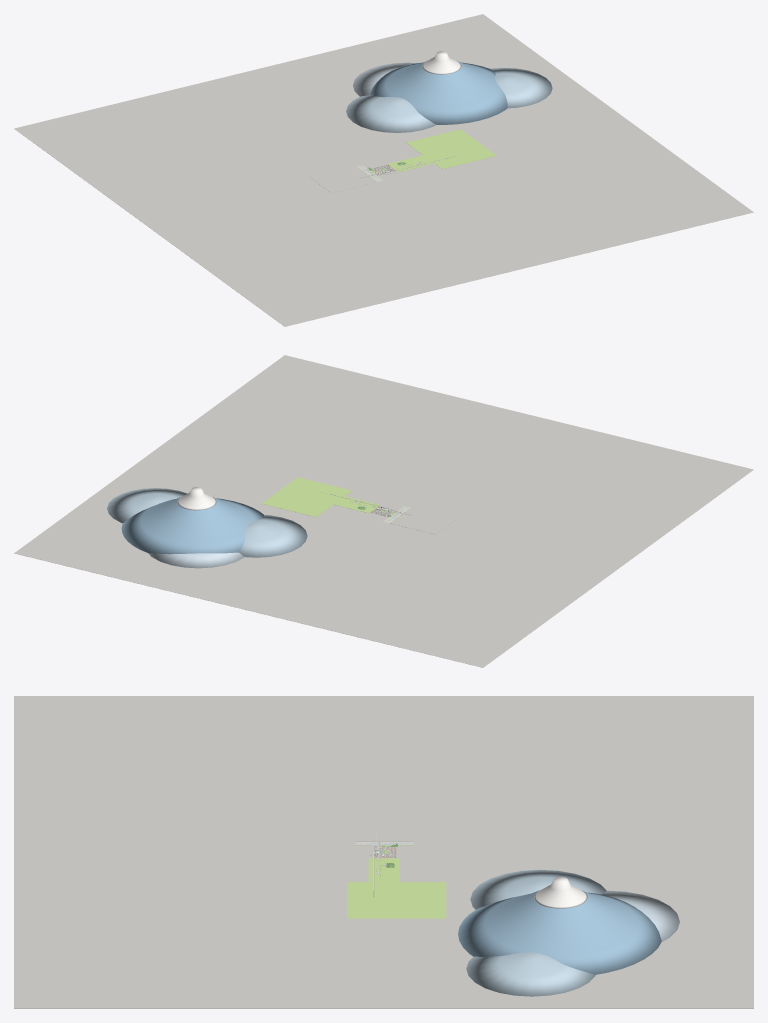
The model's file is shizuoka_hakoniwa.glb.
3 views of the same model, one above another, from view 1: azimuth 30°, elevation 25°; view 2: azimuth 150°, elevation 25°; view 3: azimuth 270°, elevation 25° (orthographic). The views are drawn at different scales.
Visible parts, largest first — view 1: 遠景の地面, 富士山, 富士の前の山-2000, 東の野の奥, 富士の前の山2000, 対岸, 富士の前の山-700, 富士山の雪; view 2: 遠景の地面, 富士山, 富士の前の山-2000, 東の野の奥, 富士の前の山2000, 富士の前の山-700, 対岸, 富士山の雪; view 3: 遠景の地面, 富士山, 富士の前の山2000, 東の野の奥, 富士の前の山-2000, 対岸, 富士の前の山-700, 富士山の雪, 東の野.
Boxes of the visible parts, x1,y1,x2,y2 form: 遠景の地面: (14, 14, 753, 326); 富士山: (370, 61, 507, 124); 富士の前の山-2000: (346, 95, 436, 132); 東の野の奥: (406, 129, 496, 169); 富士の前の山2000: (490, 68, 552, 108); 対岸: (311, 166, 376, 192); 富士の前の山-700: (353, 62, 416, 96); 富士山の雪: (422, 51, 461, 74); 遠景の地面: (14, 355, 753, 667); 富士山: (121, 497, 263, 554); 富士の前の山-2000: (239, 515, 307, 557); 東の野の奥: (262, 477, 352, 516); 富士の前の山2000: (107, 488, 187, 523); 富士の前の山-700: (148, 552, 244, 568); 対岸: (390, 508, 456, 534); 富士山の雪: (177, 487, 216, 510); 遠景の地面: (14, 696, 753, 1008); 富士山: (458, 890, 661, 974); 富士の前の山2000: (466, 952, 595, 996); 東の野の奥: (347, 882, 446, 918); 富士の前の山-2000: (470, 869, 606, 909); 対岸: (355, 810, 413, 841); 富士の前の山-700: (601, 890, 679, 941); 富士山の雪: (534, 877, 587, 908); 東の野: (368, 858, 399, 881).
Size of the model in its own units: 18000 by 1533 by 18000.
